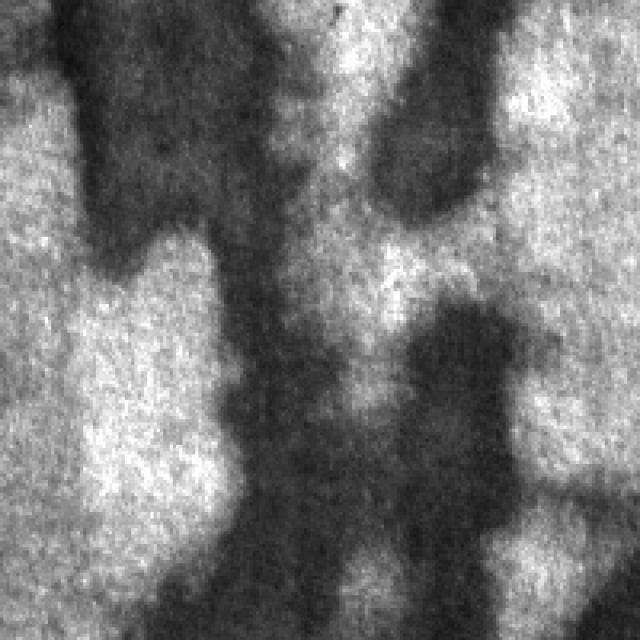patches: (173, 221, 371, 637), (58, 0, 307, 272), (378, 288, 534, 637), (378, 0, 513, 230), (573, 490, 640, 630)
